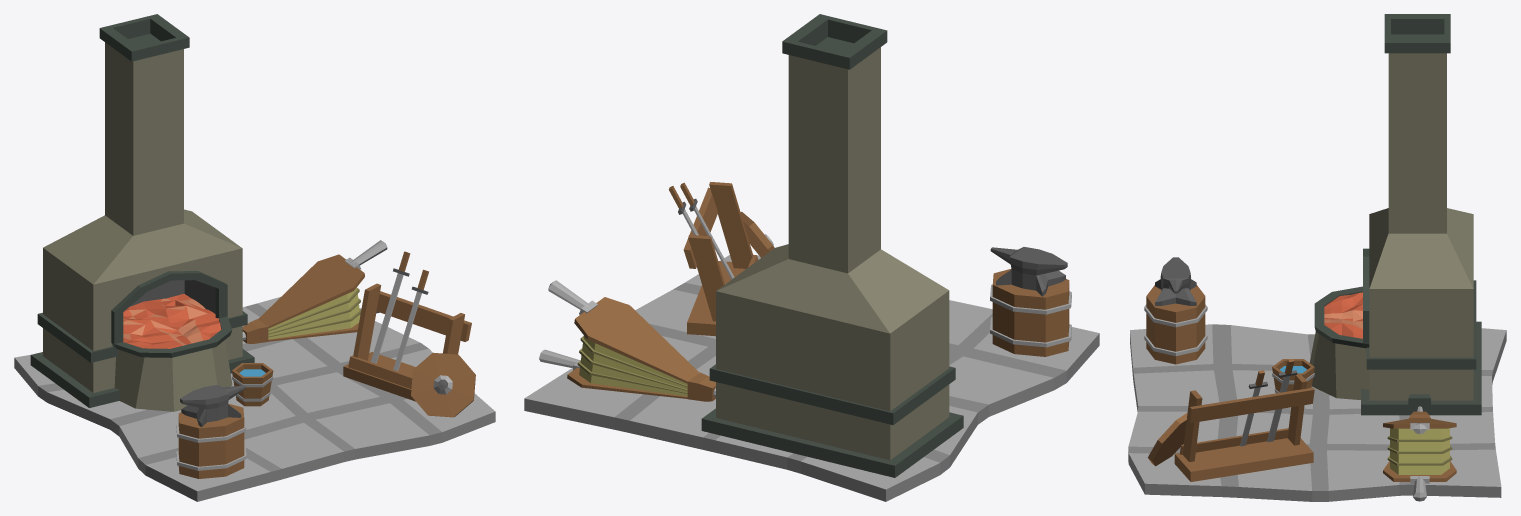
The model's file is Smithy_2_lvl_mat.fbx.
3 views of the same model, side by side, from view 1: azimuth 30°, elevation 25°; view 2: azimuth 150°, elevation 25°; view 3: azimuth 270°, elevation 25° (orthographic). The views are drawn at different scales.
Parts seen in each view (by area): view 1: Smithy_2_lvl_mat; view 2: Smithy_2_lvl_mat; view 3: Smithy_2_lvl_mat.
Boxes of the visible parts, bbox=[...] form: Smithy_2_lvl_mat: bbox=[14, 14, 495, 501]; Smithy_2_lvl_mat: bbox=[524, 14, 1099, 501]; Smithy_2_lvl_mat: bbox=[1128, 14, 1506, 501].
Size of the model in its own units: 3.01 by 2.84 by 2.74.
